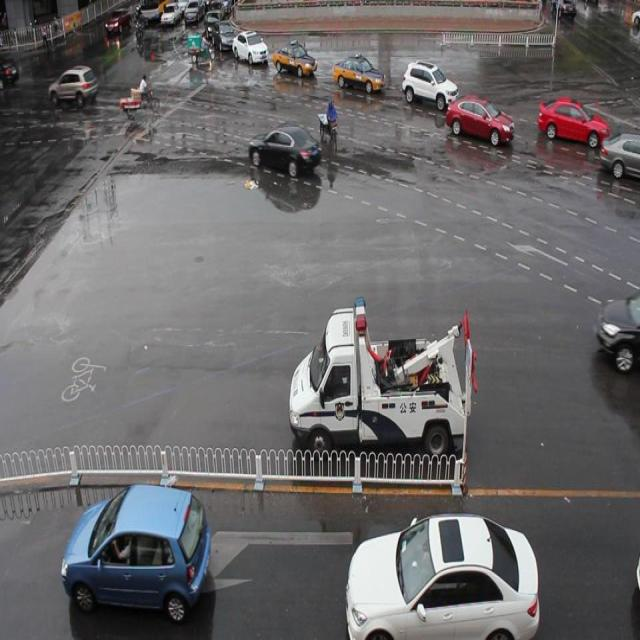bus: (288, 294, 477, 462)
car: (345, 509, 538, 640), (62, 481, 210, 622), (248, 122, 320, 180), (593, 291, 640, 373), (537, 95, 609, 147), (446, 92, 513, 147), (402, 59, 458, 113), (598, 130, 640, 182), (332, 54, 385, 95), (272, 39, 316, 80), (232, 29, 269, 67), (213, 20, 236, 55)
